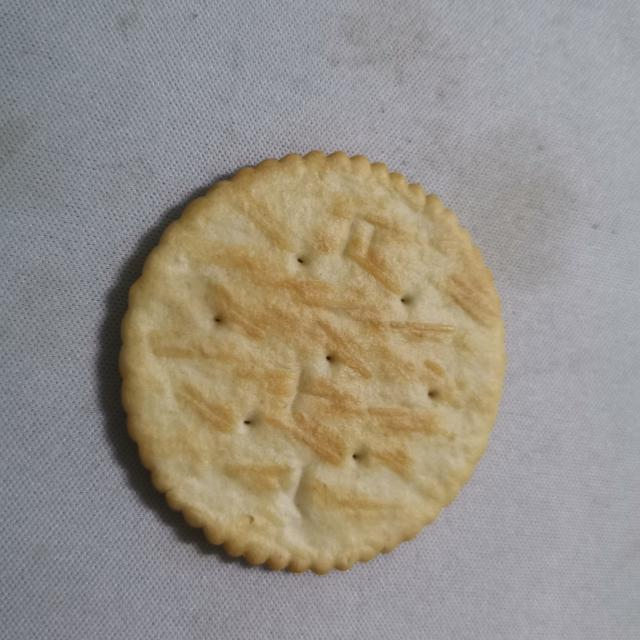Intact: (105, 138, 518, 583)
